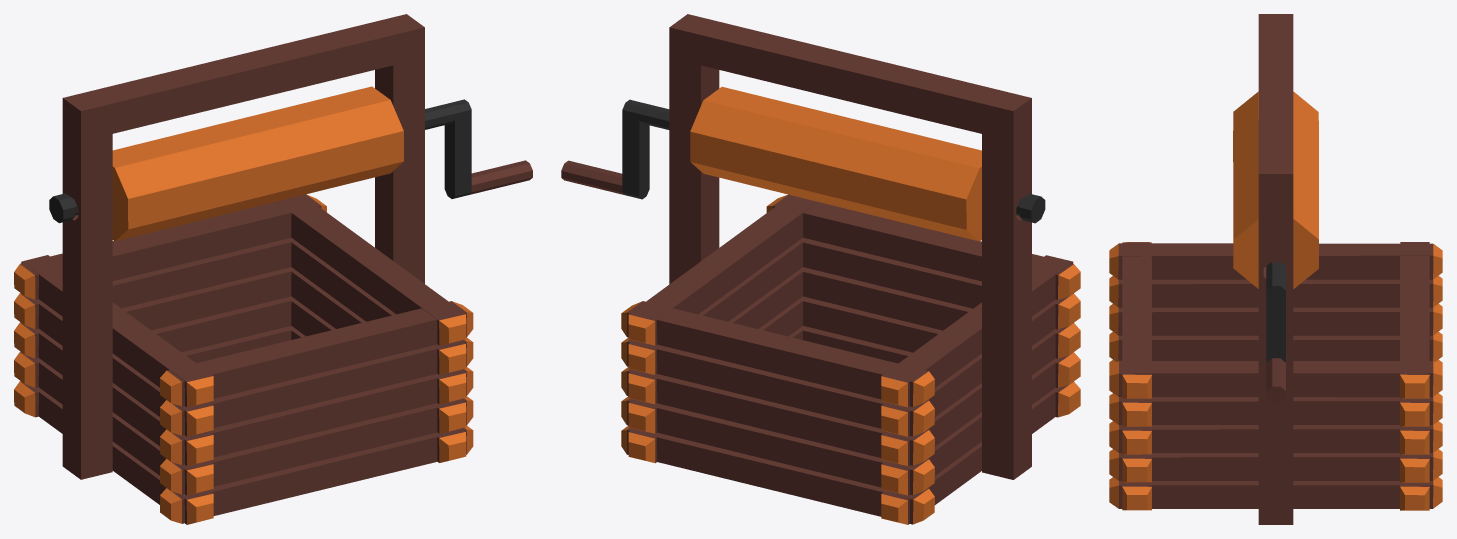
File: well_without_roof.fbx
The picture shows the model from 3 angles, left to right: view 1: azimuth 30°, elevation 25°; view 2: azimuth 150°, elevation 25°; view 3: azimuth 270°, elevation 25°; orthographic projection. The views are drawn at different scales.
Visible parts, largest first — view 1: well, roll; view 2: well, roll; view 3: well, roll.
Boxes of the visible parts, box(x1,y1,x2,y2) form: well: box(14, 14, 473, 524); roll: box(49, 86, 532, 241); well: box(621, 14, 1080, 524); roll: box(561, 86, 1045, 241); well: box(1109, 14, 1442, 524); roll: box(1233, 91, 1318, 402).
Size of the model in its own units: 146 by 109 by 93.89.
